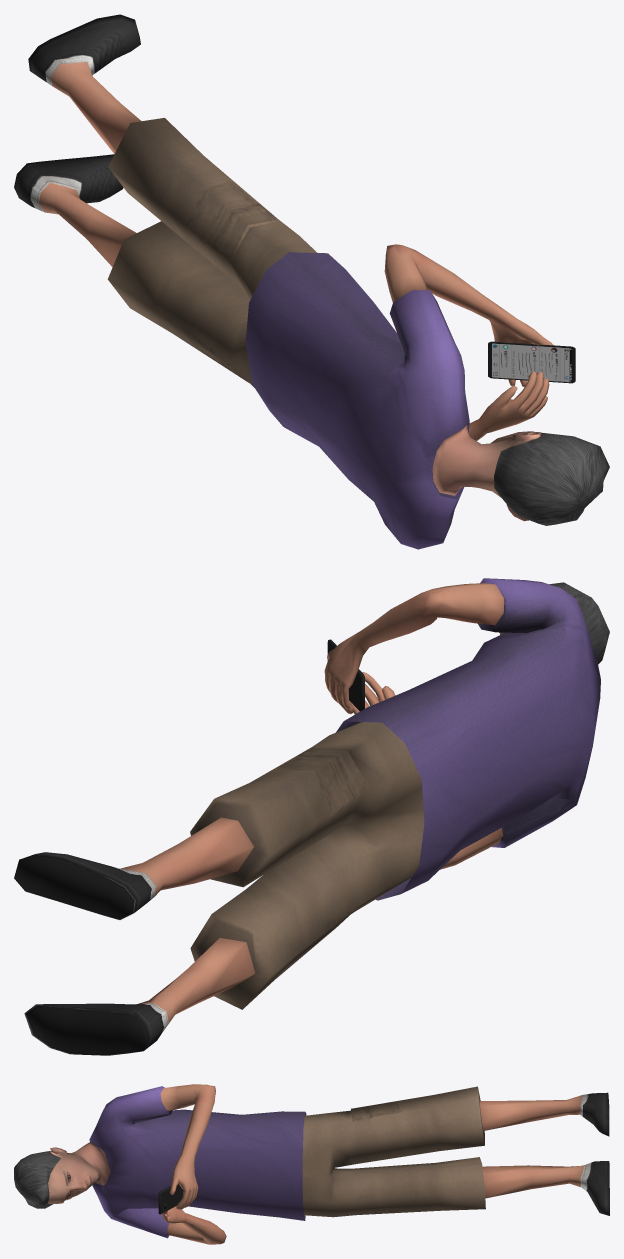
File: MaleVisitorStatic.obj
3 renders of one model, top to bottom at view 1: azimuth 30°, elevation 25°; view 2: azimuth 150°, elevation 25°; view 3: azimuth 270°, elevation 25°, orthographic. The views are drawn at different scales.
Visible parts, largest first — view 1: MaleVisitorStatic; view 2: MaleVisitorStatic; view 3: MaleVisitorStatic.
Boxes of the visible parts, x1=… form: MaleVisitorStatic: x1=14, y1=14, x2=609, y2=549; MaleVisitorStatic: x1=14, y1=578, x2=609, y2=1055; MaleVisitorStatic: x1=14, y1=1084, x2=609, y2=1244.
Size of the model in its own units: 0.4634 by 0.5109 by 1.74.
